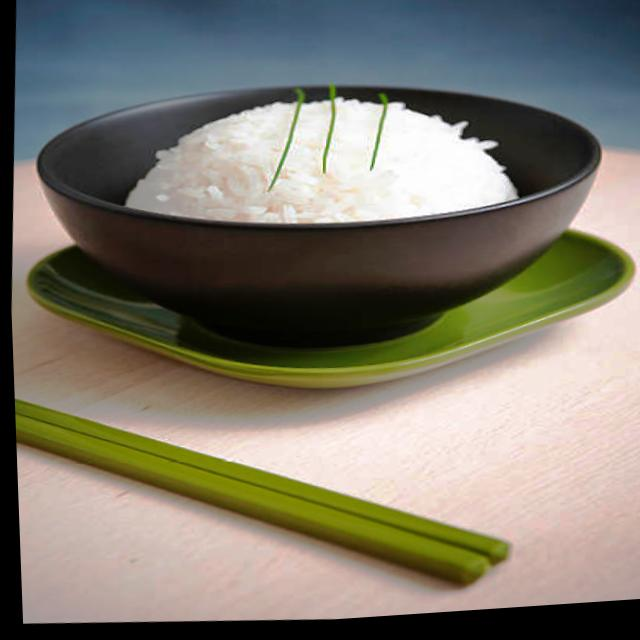rice: (121, 74, 526, 245)
